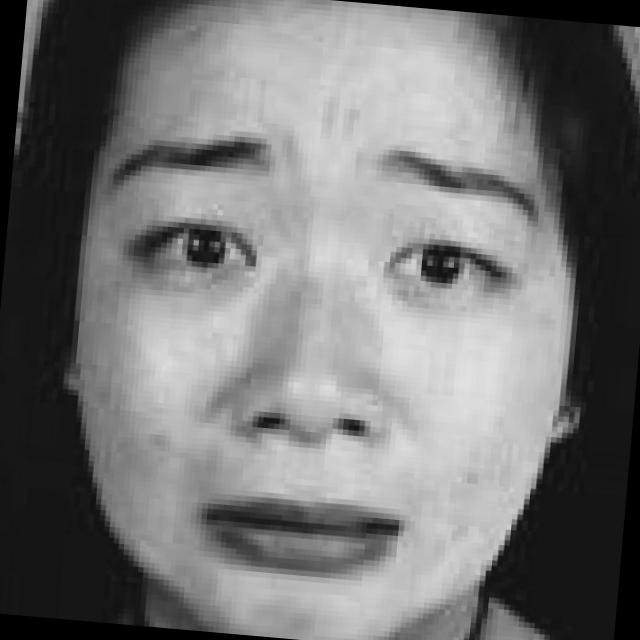fear: (67, 52, 575, 639)
